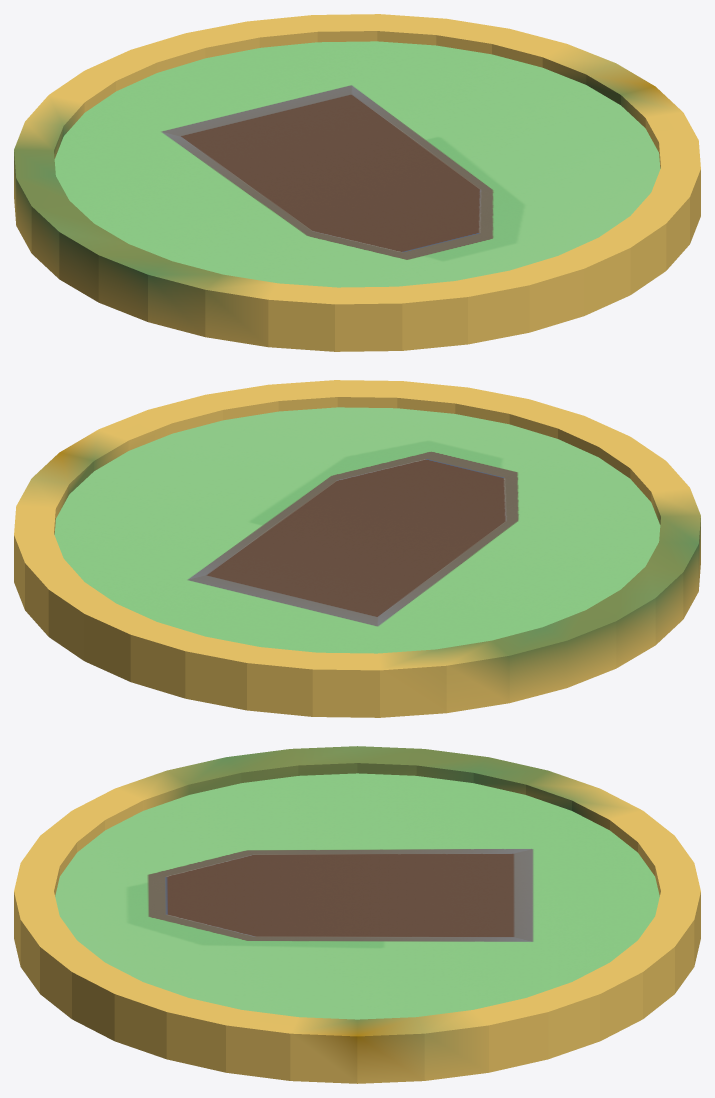
Rendered from coinshield.fbx.
3 renders of one model, top to bottom at view 1: azimuth 30°, elevation 25°; view 2: azimuth 150°, elevation 25°; view 3: azimuth 270°, elevation 25°, orthographic.
Visible parts, largest first — view 1: Cylinder; view 2: Cylinder; view 3: Cylinder.
Part boxes in pixels (x1=…): Cylinder: x1=14, y1=14, x2=700, y2=351; Cylinder: x1=14, y1=380, x2=700, y2=717; Cylinder: x1=14, y1=746, x2=700, y2=1083.
Size of the model in its own units: 677 by 51.52 by 677.
